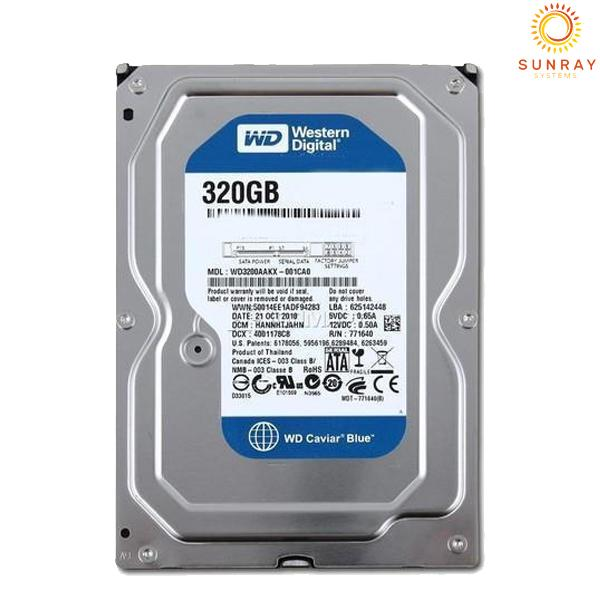internal HDD: (114, 62, 487, 576)
